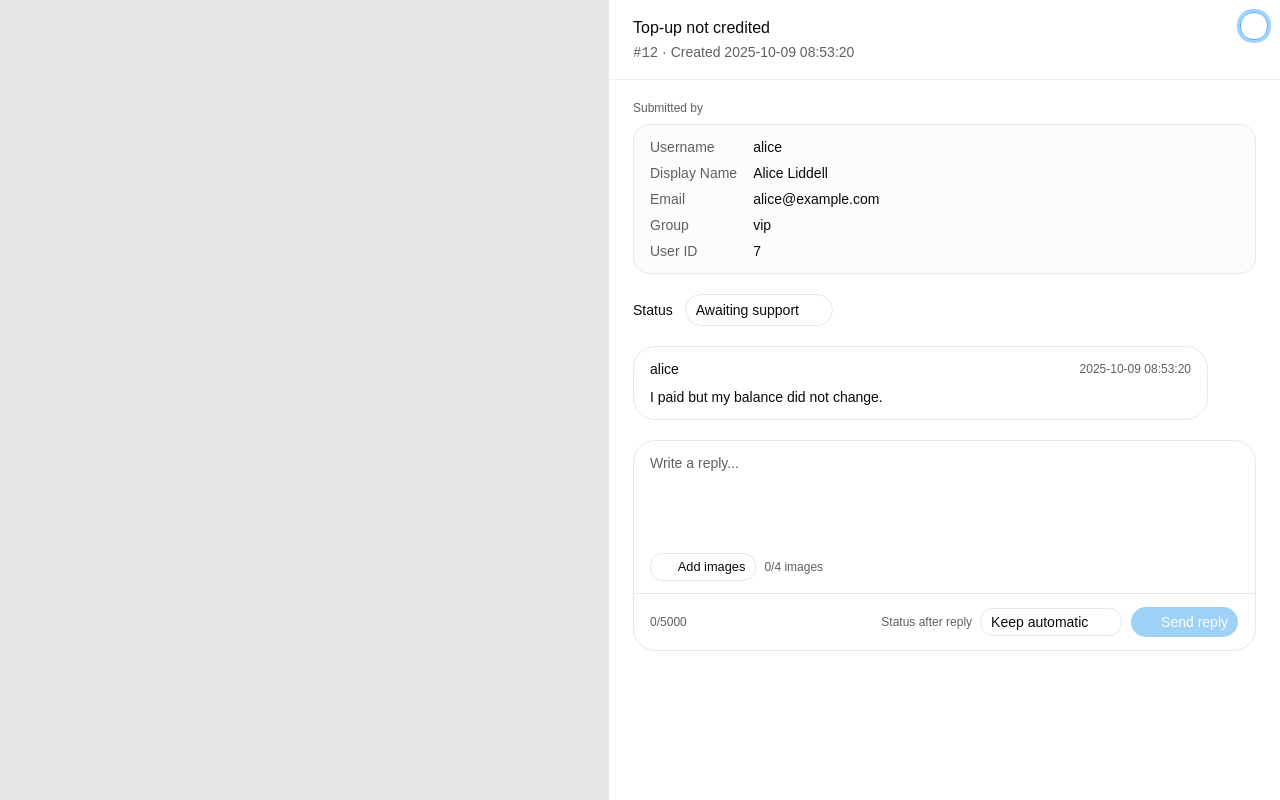
Test: ticket detail sheet › changing the status updates the ticket and reloads its detail
The width and height of the screenshot is (1280, 800).
Expected: the text "I paid but my balance did not change." is shown, [650,389,883,405]
Select "Closed" in the dropdown labelled "Status" at x=759, y=310, box [685,294,833,326]
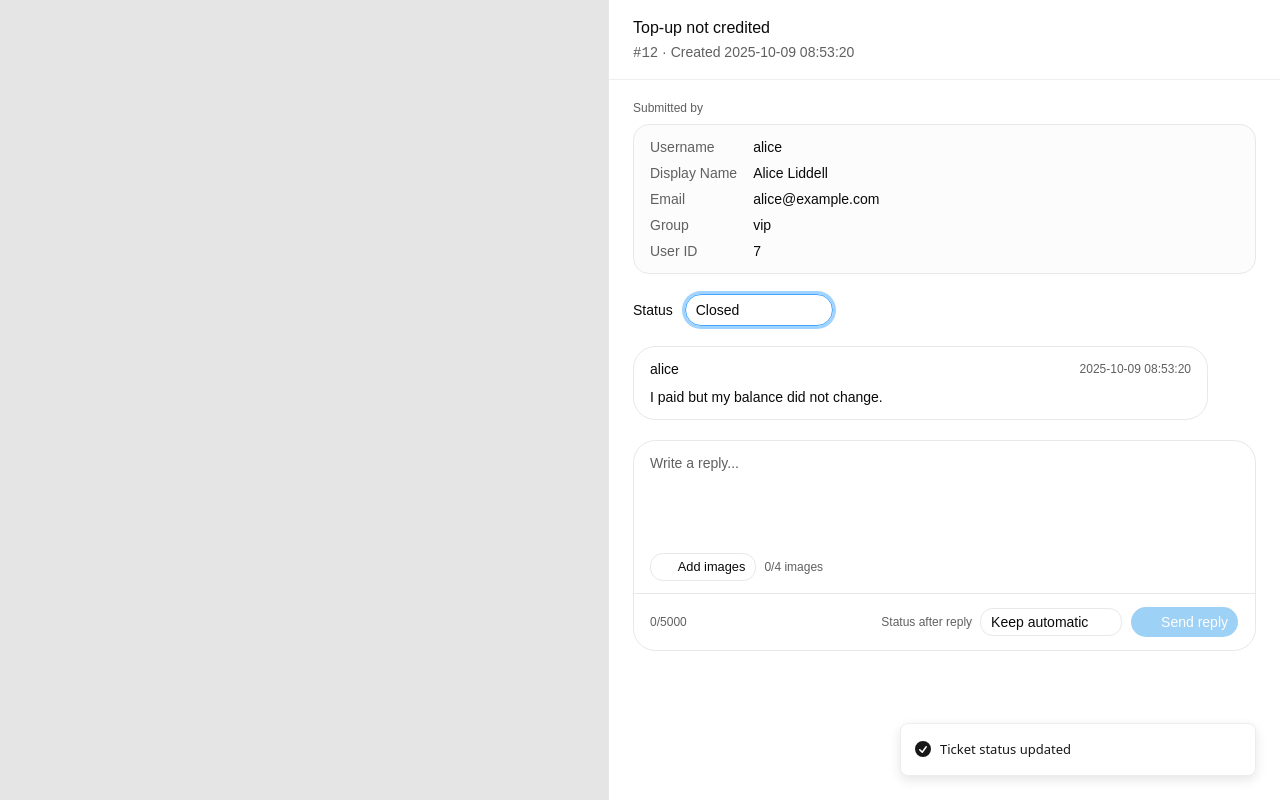
Result: the text "Ticket status updated" is shown at [940,740,1071,759]
